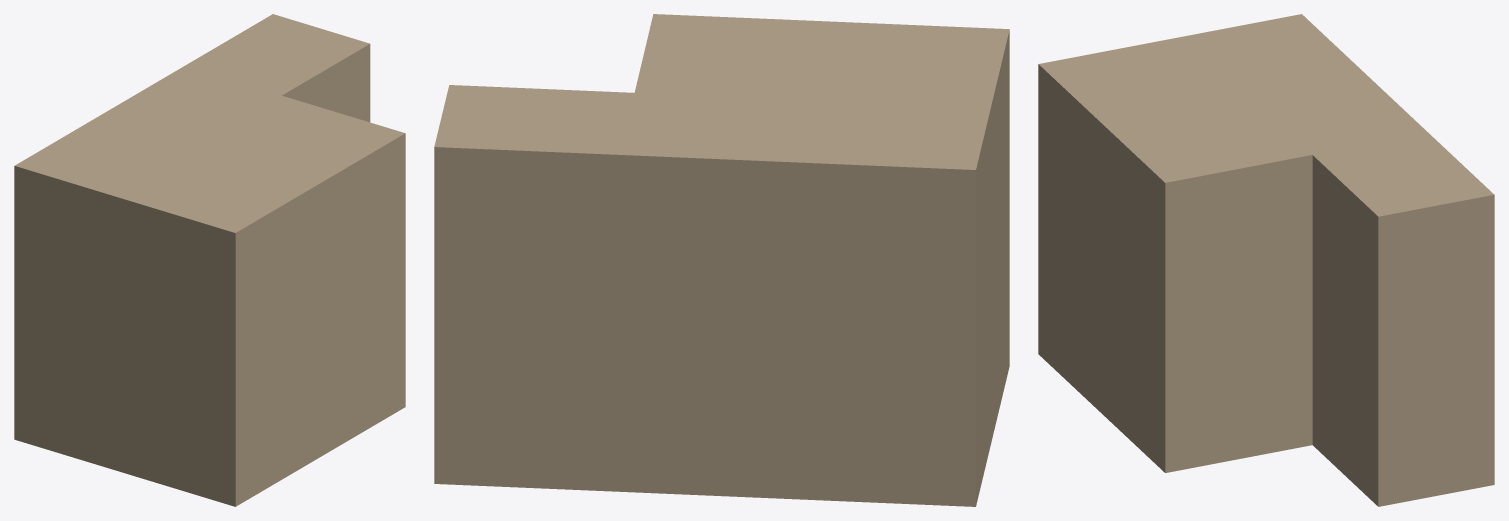
Rendered from bld_100469805.dae.
3 views of the same model, side by side, from view 1: azimuth 30°, elevation 25°; view 2: azimuth 150°, elevation 25°; view 3: azimuth 270°, elevation 25° (orthographic). The views are drawn at different scales.
Visible parts, largest first — view 1: bld_100469805; view 2: bld_100469805; view 3: bld_100469805.
Boxes of the visible parts, x1,y1,x2,y2 form: bld_100469805: [14, 14, 405, 506]; bld_100469805: [434, 14, 1009, 506]; bld_100469805: [1038, 14, 1494, 506].
Bounding box in the file's own units: 11.98 × 11.39 × 8.
